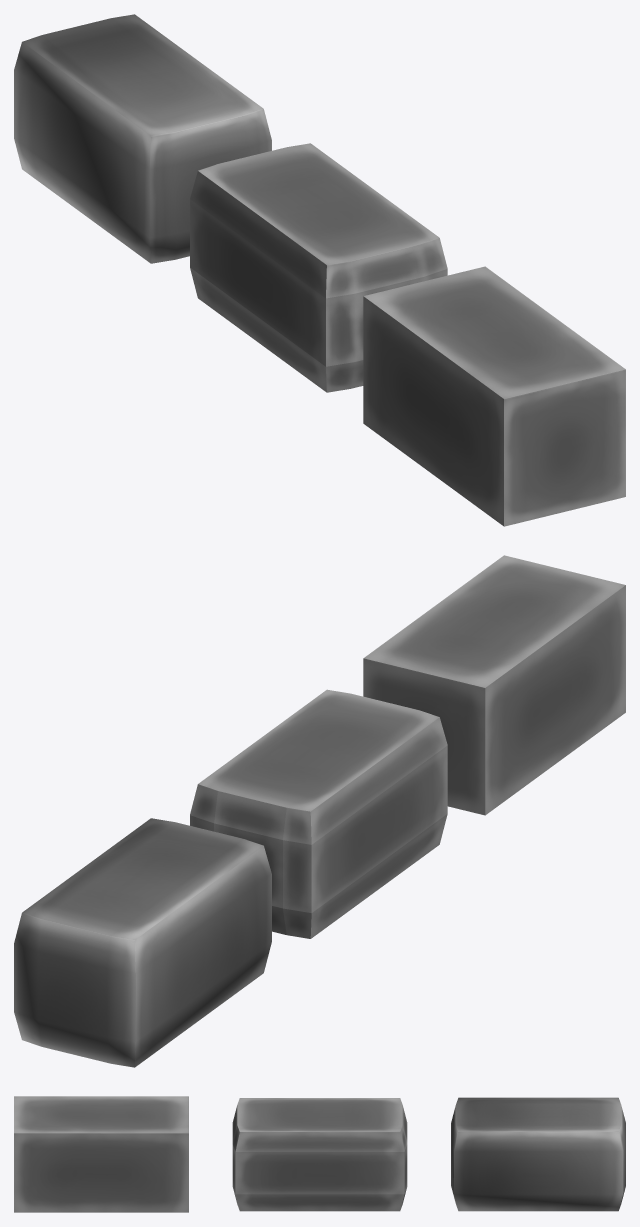
The model's file is Brick.fbx.
The picture shows the model from 3 angles, top to bottom: view 1: azimuth 30°, elevation 25°; view 2: azimuth 150°, elevation 25°; view 3: azimuth 270°, elevation 25°; orthographic projection. The views are drawn at different scales.
Visible parts, largest first — view 1: Cube, Cube_002, Cube_001; view 2: Cube_002, Cube, Cube_001; view 3: Cube, Cube_002, Cube_001.
Part boxes in pixels (x1,y1,x2,y2): Cube: (363,266,625,526); Cube_002: (14,14,271,263); Cube_001: (190,143,447,392); Cube_002: (14,818,271,1067); Cube: (363,555,625,815); Cube_001: (190,689,447,938); Cube: (14,1096,188,1212); Cube_002: (451,1097,625,1211); Cube_001: (232,1098,407,1211).
Bounding box in the file's own units: 2 × 2 × 14.
